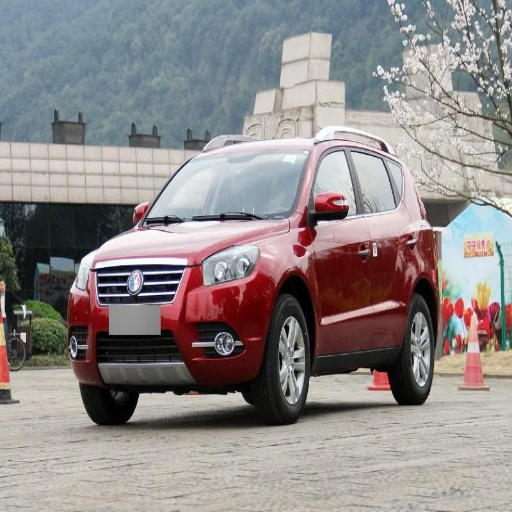front_bumper: (68, 256, 276, 387)
front_glass: (143, 152, 307, 225)
front_left_door: (306, 143, 372, 352)
